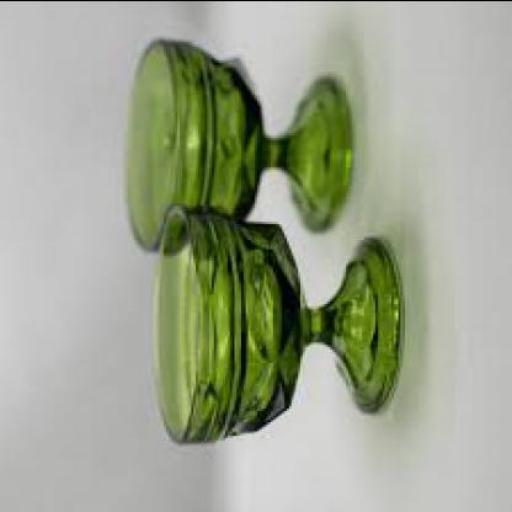glass: (150, 207, 405, 448), (125, 40, 353, 254)
